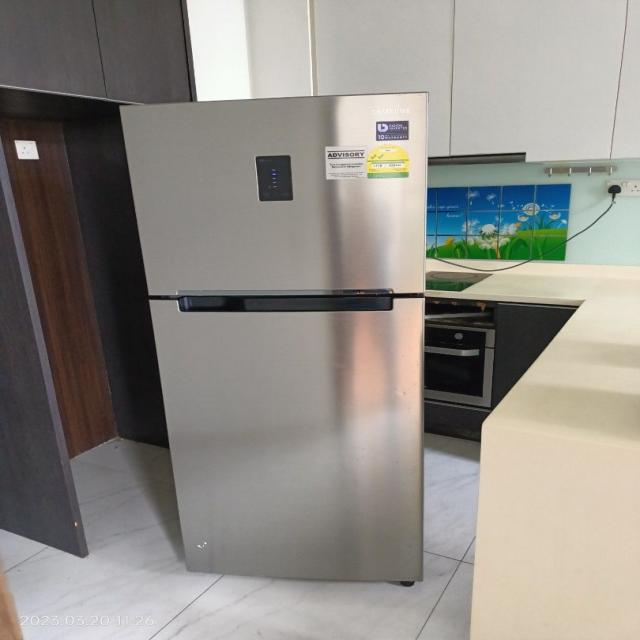refrigerator: (118, 90, 430, 586)
